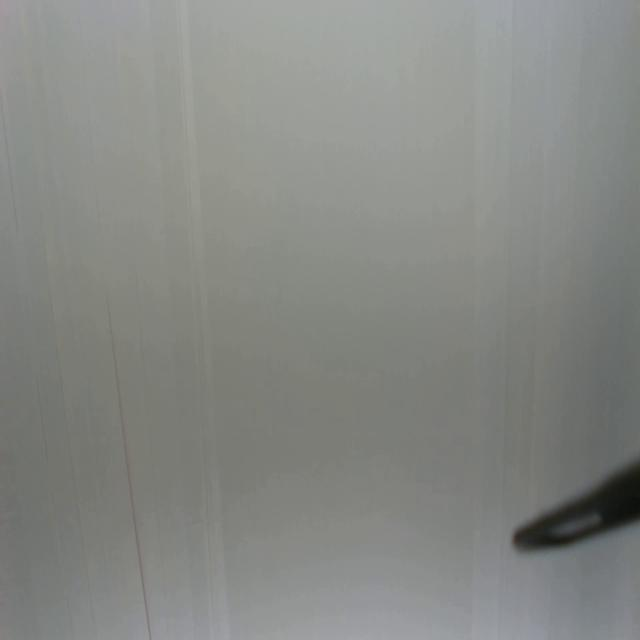crease: (176, 0, 220, 639), (41, 206, 98, 640), (103, 286, 152, 640), (0, 92, 19, 232), (35, 368, 49, 463)
